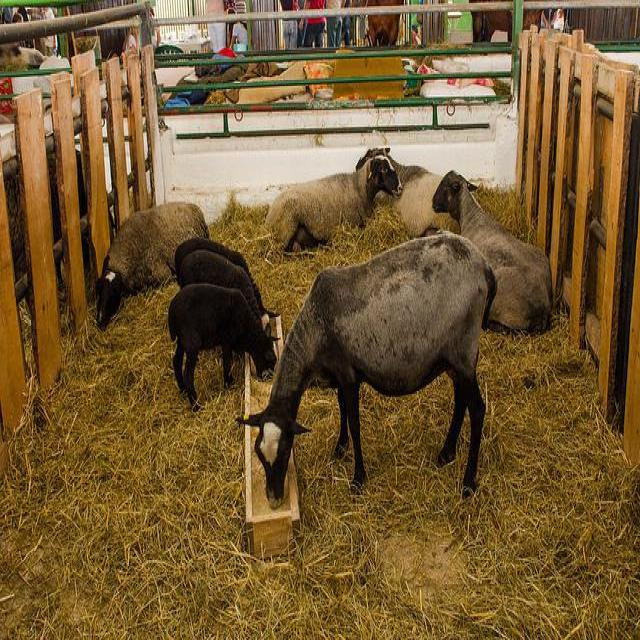Sheep: (233, 230, 497, 510), (432, 169, 553, 334), (161, 282, 281, 412), (96, 198, 212, 328), (263, 145, 404, 250), (177, 252, 279, 367), (175, 242, 280, 332), (356, 148, 460, 237)
